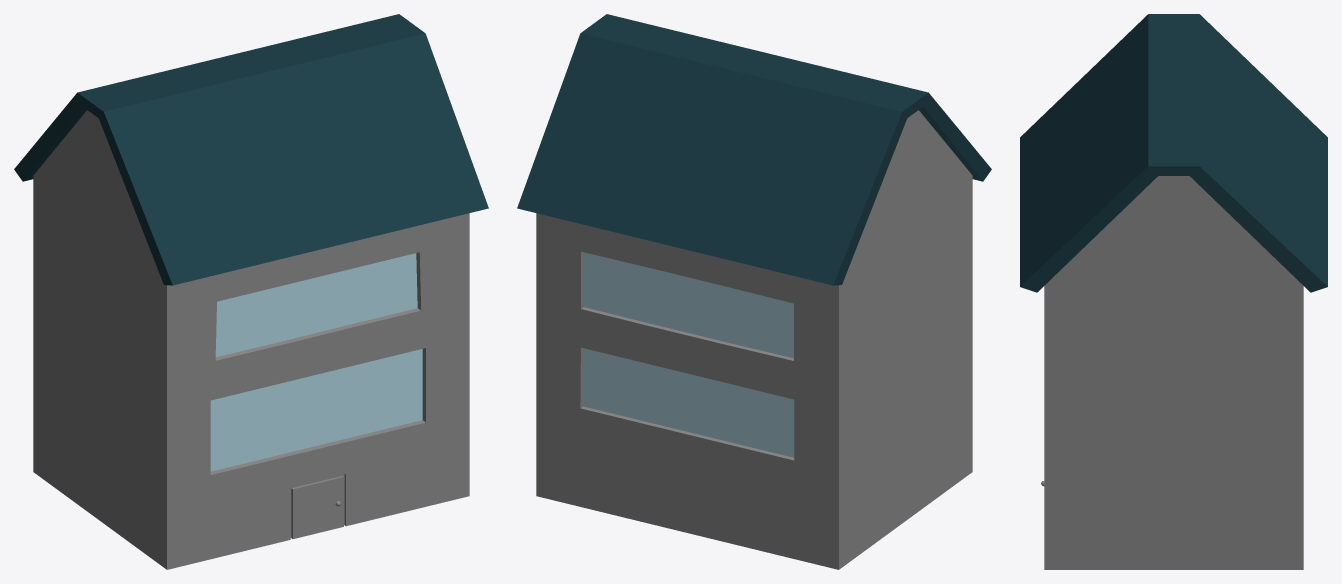
The model's file is M_Immeuble_03.FBX.
3 renders of one model, left to right at view 1: azimuth 30°, elevation 25°; view 2: azimuth 150°, elevation 25°; view 3: azimuth 270°, elevation 25°, orthographic. The views are drawn at different scales.
Parts seen in each view (by area): view 1: Box001; view 2: Box001; view 3: Box001.
Boxes of the visible parts, x1,y1,x2,y2 form: Box001: [14, 14, 488, 569]; Box001: [517, 14, 991, 569]; Box001: [1020, 14, 1327, 569].
Size of the model in its own units: 6.17 by 5.28 by 7.72.
